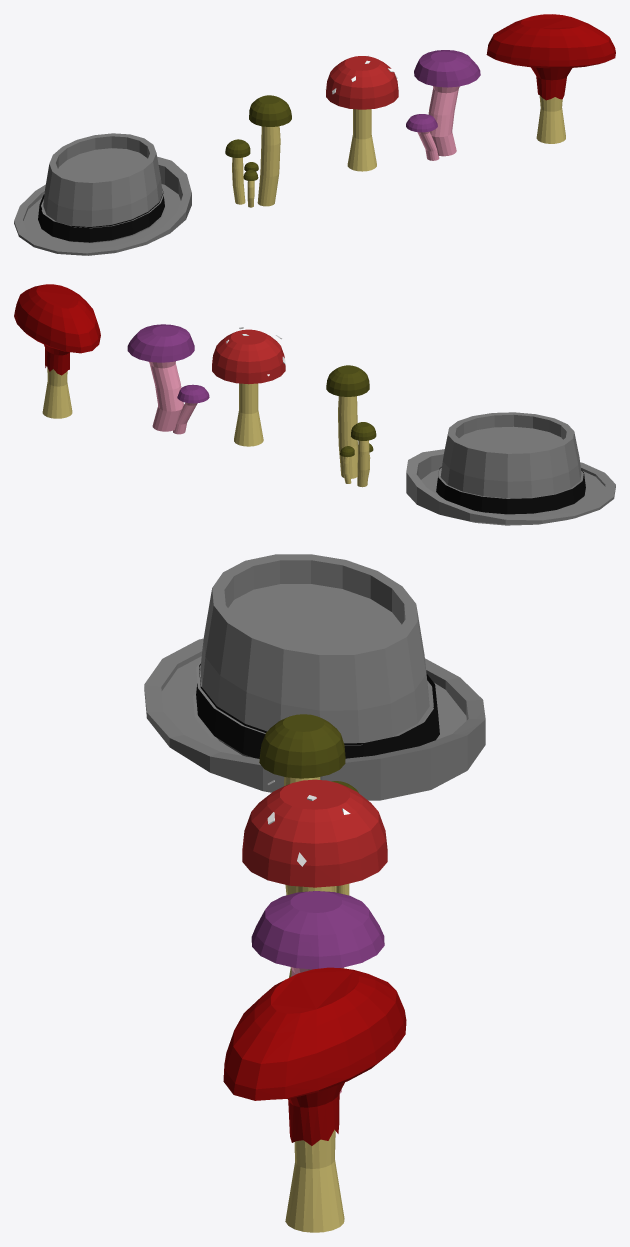
3 renders of one model, top to bottom at view 1: azimuth 30°, elevation 25°; view 2: azimuth 150°, elevation 25°; view 3: azimuth 270°, elevation 25°, orthographic. The views are drawn at different scales.
Visible parts, largest first — view 1: hat, redmush, mushsh, mush, greenmush; view 2: hat, redmush, mushsh, mush, greenmush; view 3: hat, redmush, mushsh, mush, greenmush.
Part boxes in pixels (bbox=[...]): hat: bbox=[14, 133, 191, 255]; redmush: bbox=[486, 14, 615, 143]; mushsh: bbox=[325, 55, 398, 171]; mush: bbox=[406, 50, 480, 160]; greenmush: bbox=[225, 95, 291, 207]; hat: bbox=[406, 412, 615, 525]; redmush: bbox=[14, 284, 100, 418]; mushsh: bbox=[212, 327, 285, 446]; mush: bbox=[127, 324, 209, 434]; greenmush: bbox=[326, 365, 376, 487]; hat: bbox=[144, 554, 485, 800]; redmush: bbox=[223, 967, 406, 1232]; mushsh: bbox=[242, 779, 387, 977]; mush: bbox=[251, 891, 384, 1093]; greenmush: bbox=[259, 714, 358, 895].
Bounding box in the file's own units: 302 × 60.12 × 76.45.
